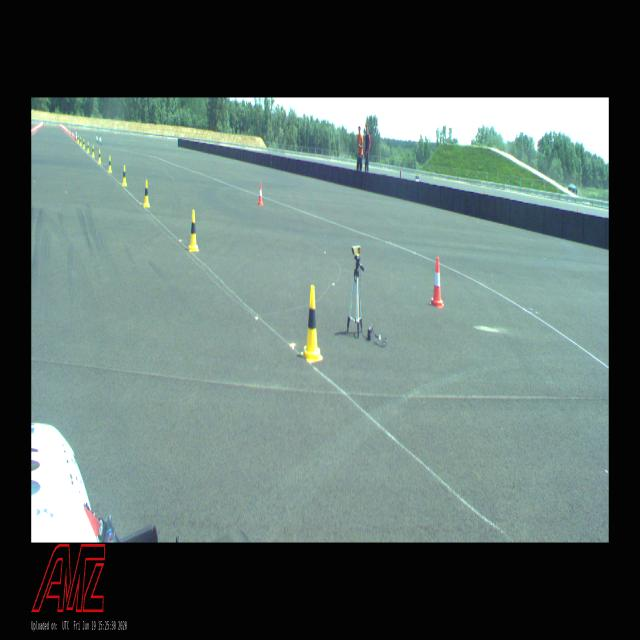large_orange_cone: (75, 130, 77, 140)
orange_cone: (430, 258, 444, 308), (258, 183, 263, 204), (32, 126, 34, 134), (72, 132, 74, 138), (31, 127, 32, 135), (72, 132, 73, 138), (34, 126, 34, 133)
yellow_cone: (300, 286, 322, 361), (188, 210, 200, 252), (143, 180, 150, 207), (122, 166, 127, 186), (108, 156, 111, 172), (98, 150, 101, 164), (92, 144, 94, 156), (87, 142, 89, 152), (83, 139, 85, 148), (80, 137, 82, 145), (77, 134, 79, 142)
